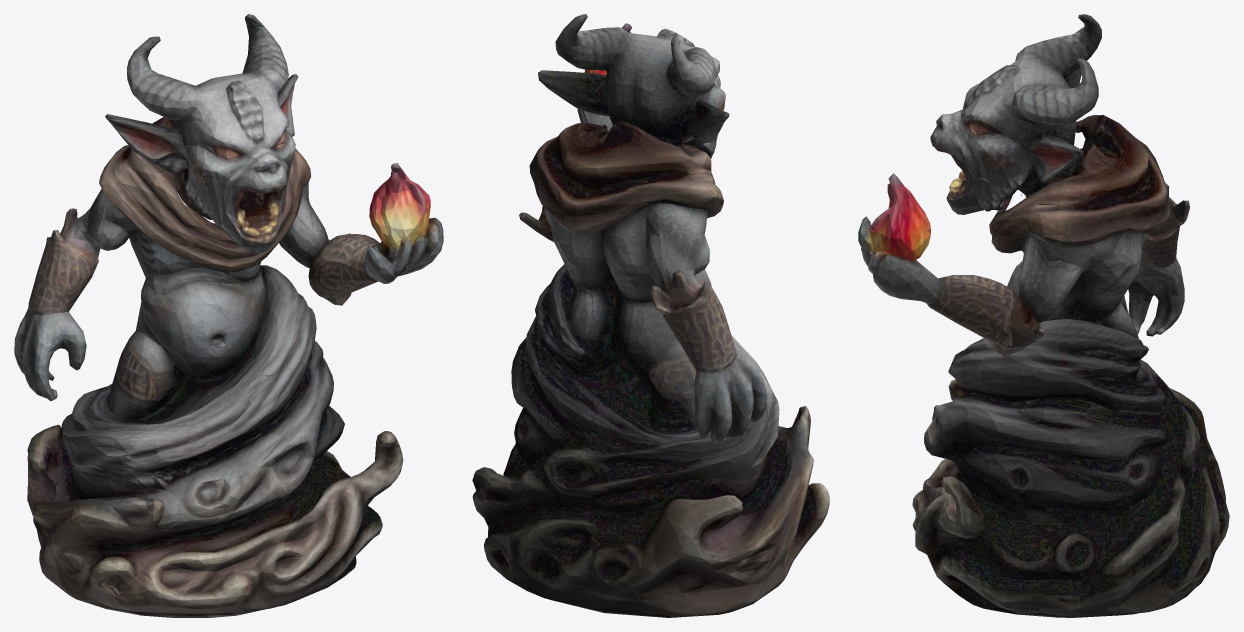
Rendered from ashImp.glb.
3 renders of one model, left to right at view 1: azimuth 30°, elevation 25°; view 2: azimuth 150°, elevation 25°; view 3: azimuth 270°, elevation 25°, orthographic.
Parts seen in each view (by area): view 1: world; view 2: world; view 3: world.
Boxes of the visible parts, x1=… form: world: x1=14, y1=14, x2=443, y2=617; world: x1=472, y1=14, x2=829, y2=617; world: x1=858, y1=14, x2=1229, y2=617.
Size of the model in its own units: 0.5928 by 1 by 0.6389.
1 material, 1 textured.
